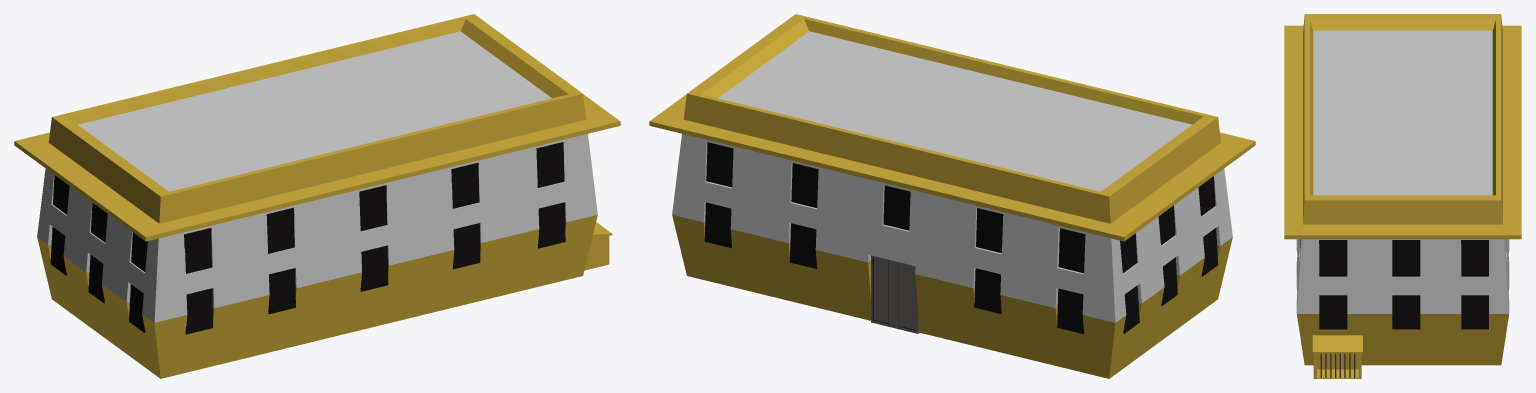
The picture shows the model from 3 angles, left to right: view 1: azimuth 30°, elevation 25°; view 2: azimuth 150°, elevation 25°; view 3: azimuth 270°, elevation 25°; orthographic projection. The views are drawn at different scales.
Visible parts, largest first — view 1: Cube002; view 2: Cube002; view 3: Cube002.
Boxes of the visible parts, x1,y1,x2,y2 form: Cube002: [14, 14, 620, 378]; Cube002: [649, 14, 1255, 378]; Cube002: [1284, 14, 1521, 378].
Bounding box in the file's own units: 13.24 × 4.79 × 6.25.
